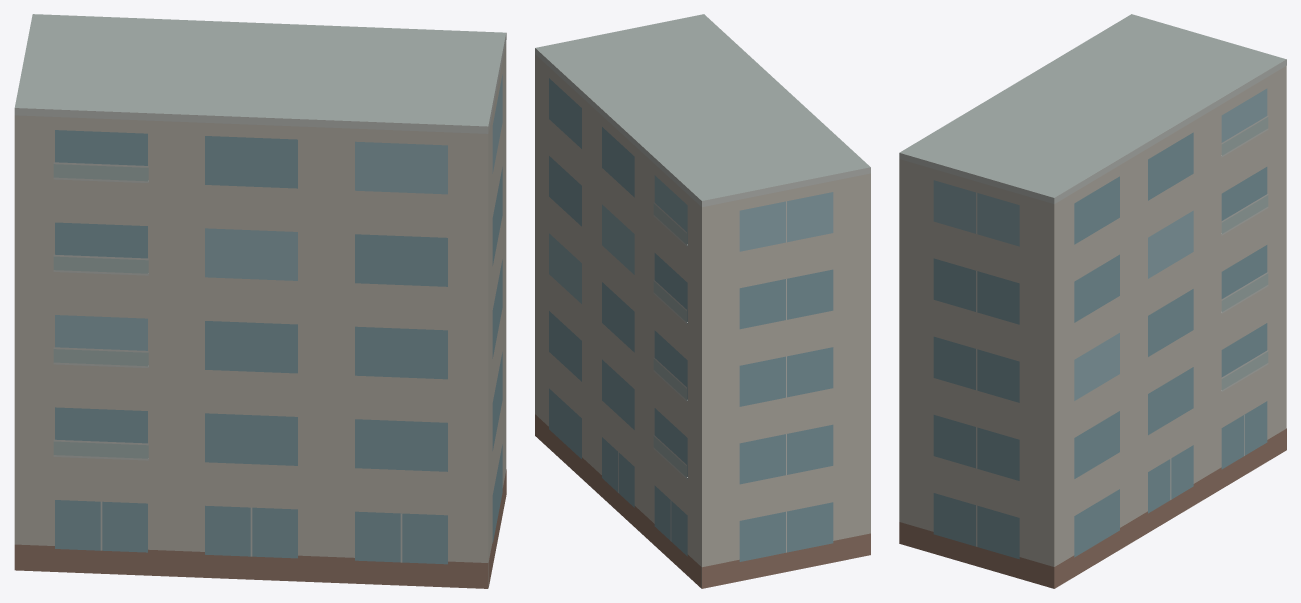
Rendered from survey-upis-32998756.glb.
3 renders of one model, left to right at view 1: azimuth 30°, elevation 25°; view 2: azimuth 150°, elevation 25°; view 3: azimuth 270°, elevation 25°, orthographic. The views are drawn at different scales.
Visible parts, largest first — view 1: survey-upis-32998756.tmp; view 2: survey-upis-32998756.tmp; view 3: survey-upis-32998756.tmp.
Part boxes in pixels (bbox=[...]): survey-upis-32998756.tmp: bbox=[14, 14, 506, 588]; survey-upis-32998756.tmp: bbox=[535, 14, 870, 588]; survey-upis-32998756.tmp: bbox=[899, 14, 1286, 588].
Size of the model in its own units: 15.4 by 15.25 by 13.71.
